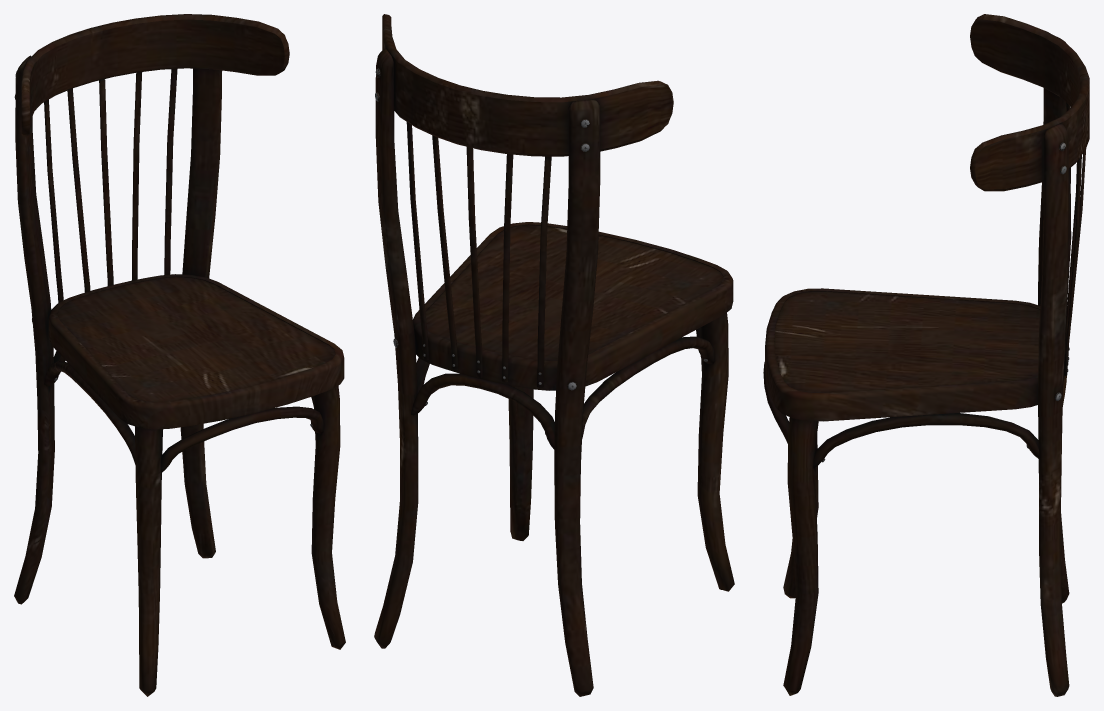
The model's file is chair.glb.
3 views of the same model, side by side, from view 1: azimuth 30°, elevation 25°; view 2: azimuth 150°, elevation 25°; view 3: azimuth 270°, elevation 25° (orthographic). The views are drawn at different scales.
Visible parts, largest first — view 1: Root; view 2: Root; view 3: Root.
Part boxes in pixels (<box>): Root: <box>14,14,345,696</box>; Root: <box>374,14,734,696</box>; Root: <box>763,14,1089,696</box>.
Bounding box in the file's own units: 0.4371 × 0.86 × 0.4434.
Materials: 1 (1 with a texture image).
